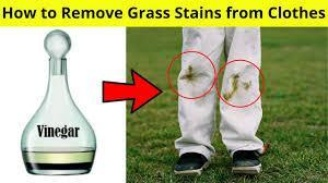earth: (225, 75, 248, 99), (183, 63, 200, 84)
